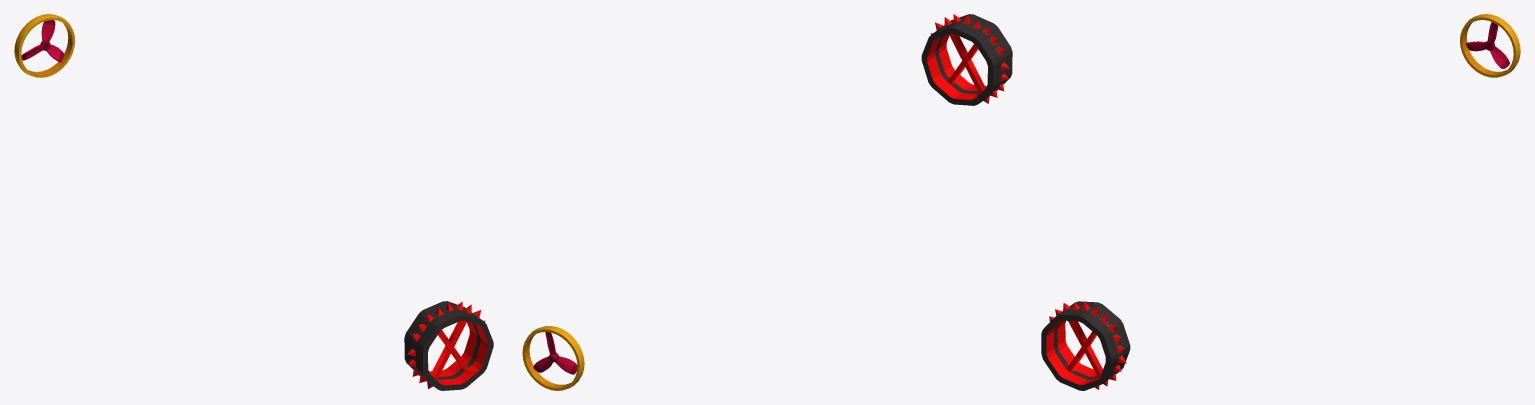
Rendered from TRACK_2_OBSTACLES.fbx.
3 renders of one model, left to right at view 1: azimuth 30°, elevation 25°; view 2: azimuth 150°, elevation 25°; view 3: azimuth 330°, elevation 25°, orthographic. The views are drawn at different scales.
Parts seen in each view (by area): view 1: SM_ROTATABLE_OBJECT, SM_ROTABLE_OUTER, SM_FAN; view 2: SM_ROTATABLE_OBJECT, SM_ROTABLE_OUTER, SM_FAN; view 3: SM_ROTATABLE_OBJECT, SM_ROTABLE_OUTER, SM_FAN.
Boxes of the visible parts, x1,y1,x2,y2 form: SM_ROTATABLE_OBJECT: (404,301,493,390); SM_ROTABLE_OUTER: (14,14,75,77); SM_FAN: (21,20,64,62); SM_ROTATABLE_OBJECT: (921,14,1012,105); SM_ROTABLE_OUTER: (522,326,584,390); SM_FAN: (533,332,577,374); SM_ROTATABLE_OBJECT: (1041,301,1130,390); SM_ROTABLE_OUTER: (1460,14,1520,77); SM_FAN: (1466,22,1509,68).
Bounding box in the file's own units: 15062 × 14995 × 130065.
Materials: 2 (2 with a texture image).
